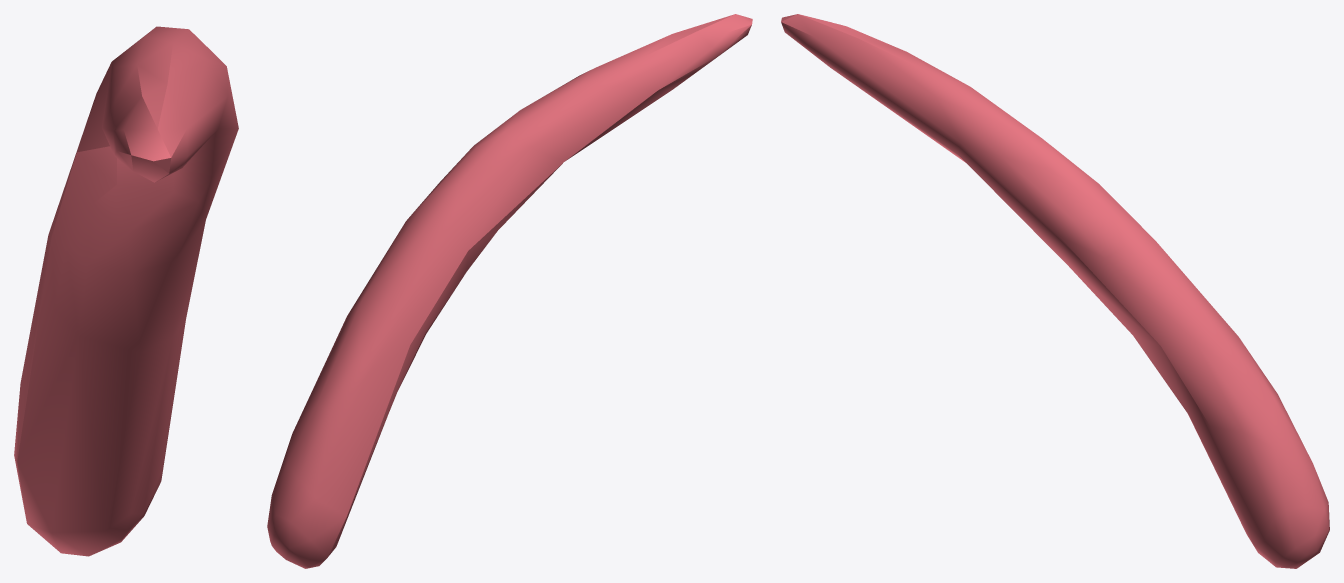
The model's file is fma8661_fj6111.glb.
3 views of the same model, side by side, from view 1: azimuth 30°, elevation 25°; view 2: azimuth 150°, elevation 25°; view 3: azimuth 270°, elevation 25° (orthographic). The views are drawn at different scales.
Visible parts, largest first — view 1: FMA8661_FJ6111; view 2: FMA8661_FJ6111; view 3: FMA8661_FJ6111.
Part boxes in pixels (x1,y1,x2,y2): FMA8661_FJ6111: (14, 26, 238, 556); FMA8661_FJ6111: (267, 14, 752, 568); FMA8661_FJ6111: (781, 14, 1329, 568).
Size of the model in its own units: 0.0116 by 0.0195 by 0.0214.
